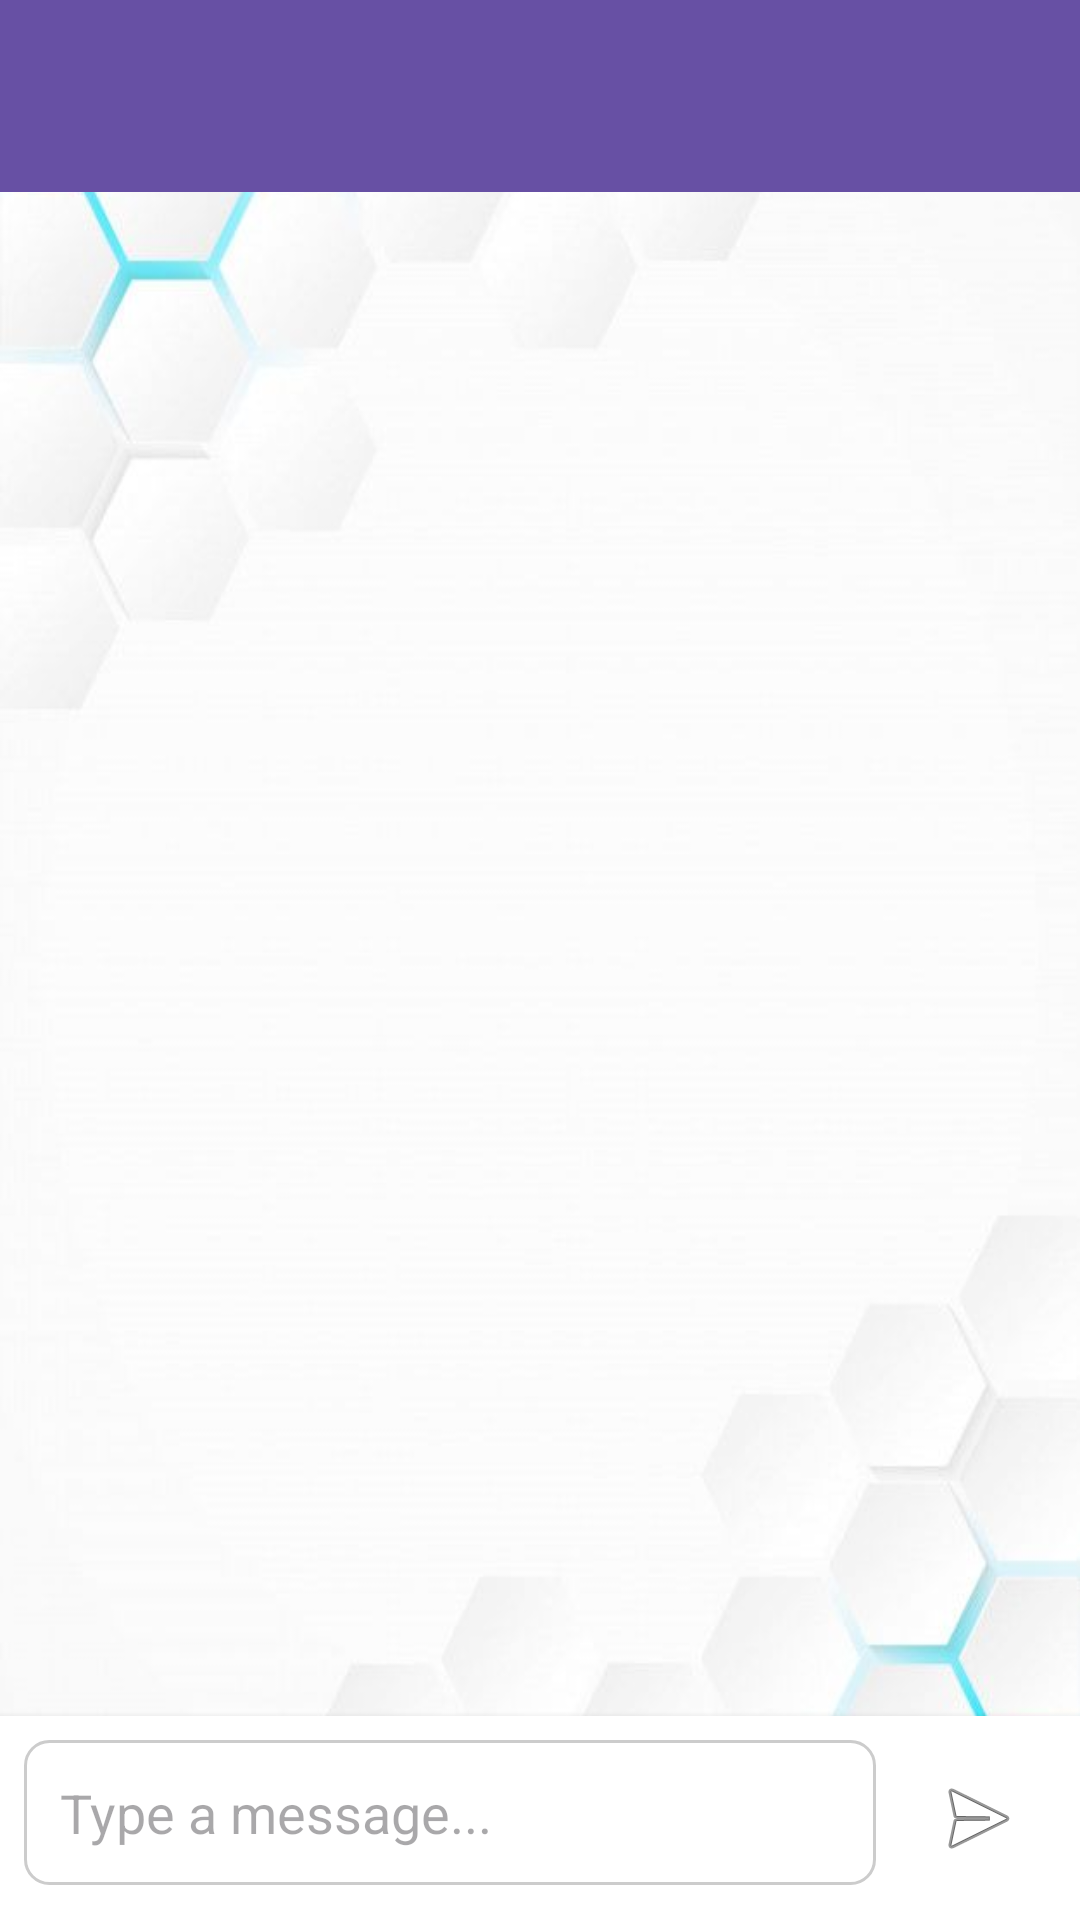

Where icons sit on this 1080 × 1920 app screen, as Rect(x1, y1, x2, y2):
Send Message: Rect(948, 1788, 1010, 1849)
